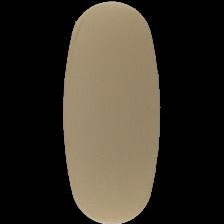16714-355: (0, 0, 224, 224)
